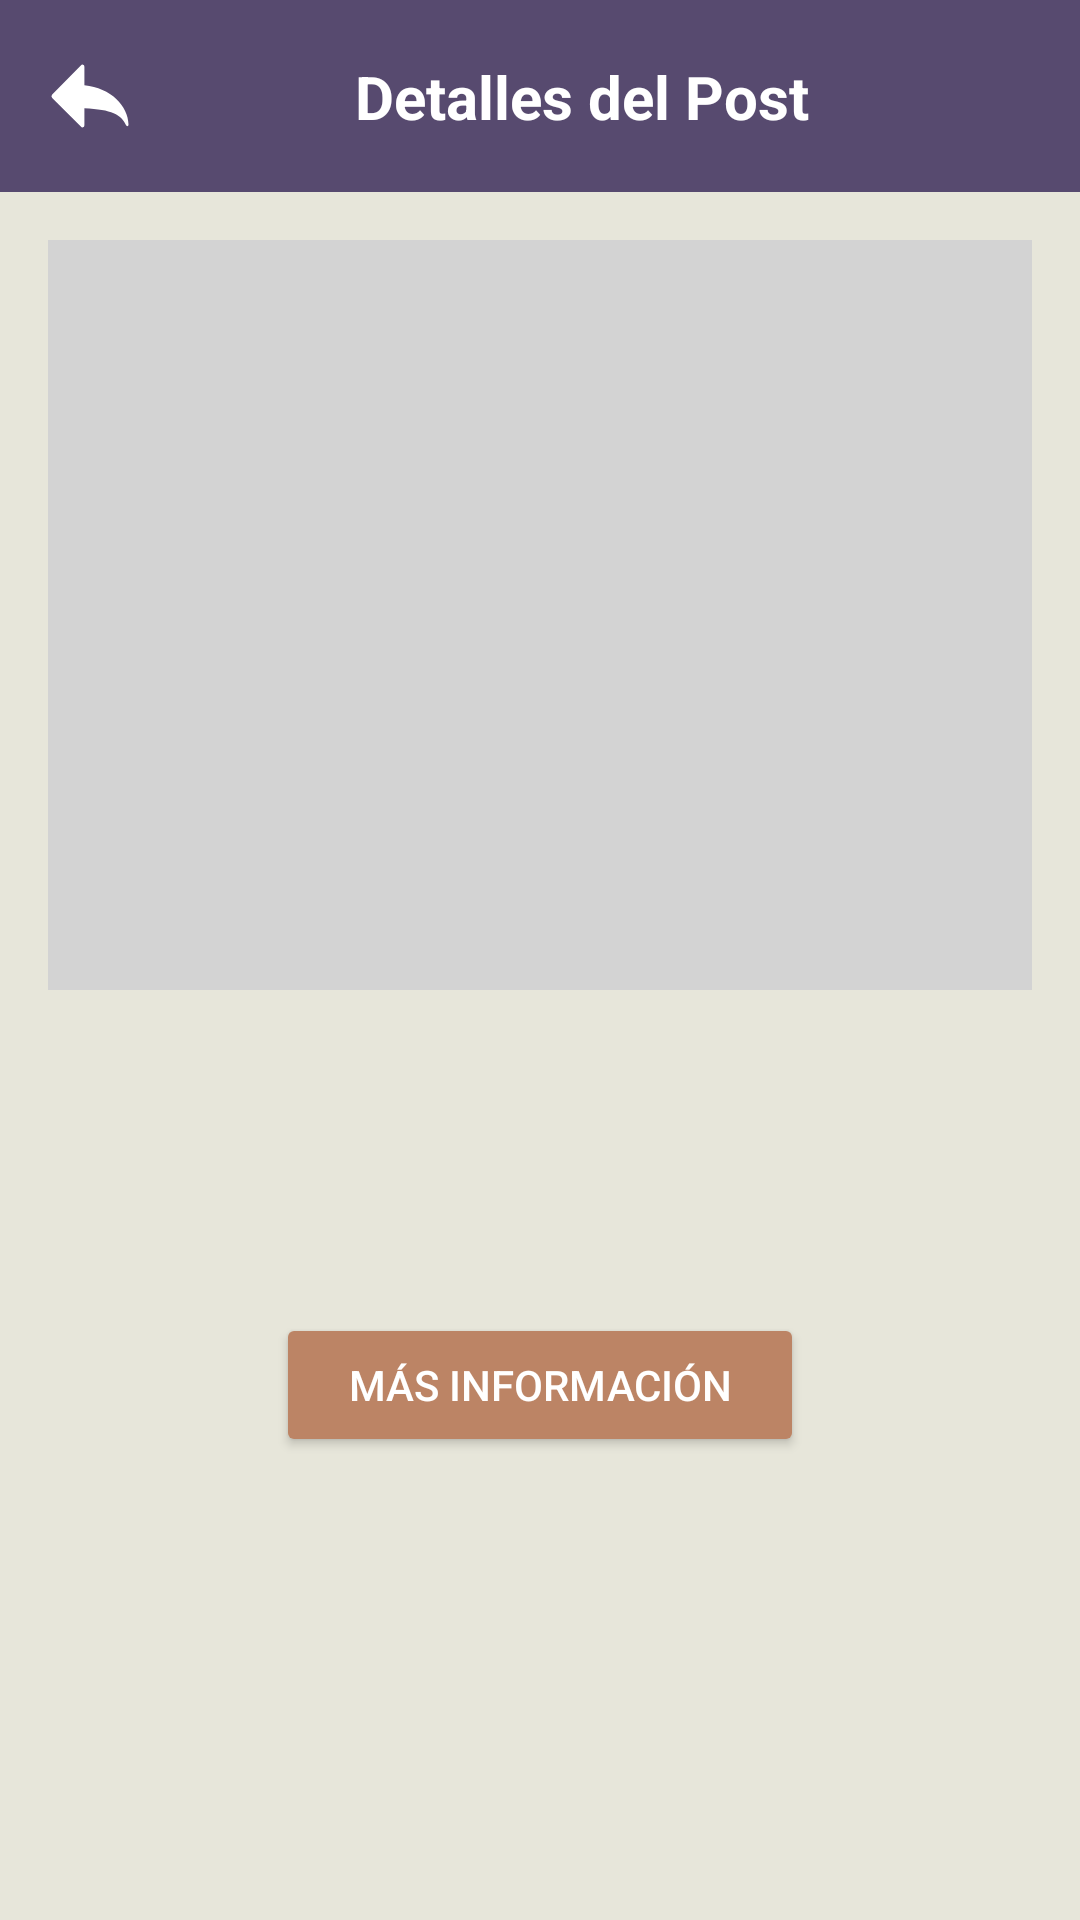

Screen size 1080 × 1920. Icon name, then its center in pixels as [x,y]:
Volver atrás: [90,96]
